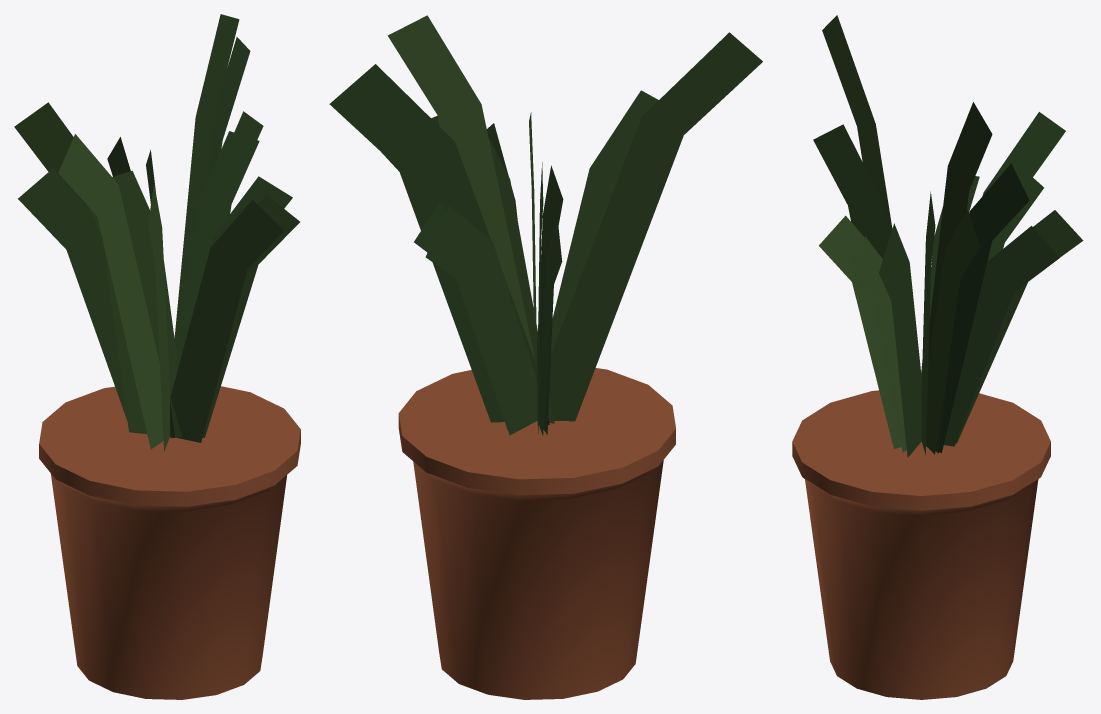
The model's file is potted_plant.glb.
3 views of the same model, side by side, from view 1: azimuth 30°, elevation 25°; view 2: azimuth 150°, elevation 25°; view 3: azimuth 270°, elevation 25° (orthographic). The views are drawn at different scales.
Parts seen in each view (by area): view 1: PottedPlant; view 2: PottedPlant; view 3: PottedPlant.
Boxes of the visible parts, x1,y1,x2,y2 form: PottedPlant: (14,14,300,699); PottedPlant: (329,15,762,699); PottedPlant: (792,15,1083,699).
Bounding box in the file's own units: 0.6345 × 1.22 × 0.5462.
